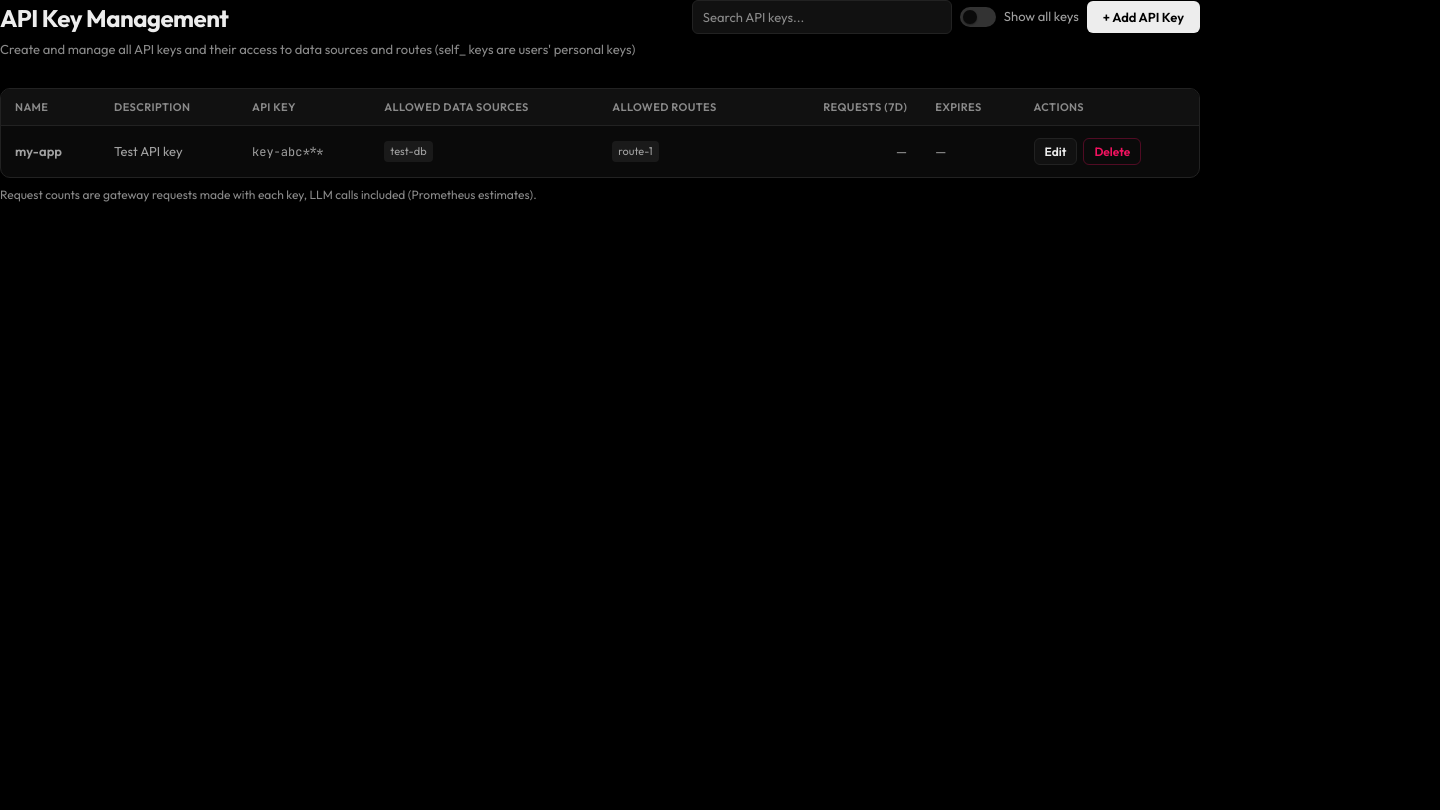
Test case: ApiKeys › opens edit modal on edit button click
Expected: the text "my-app" is shown, [1,126,100,177]
Click the button with aria-label "Edit API key my-app" at (1055, 152), box [1034,138,1077,165]
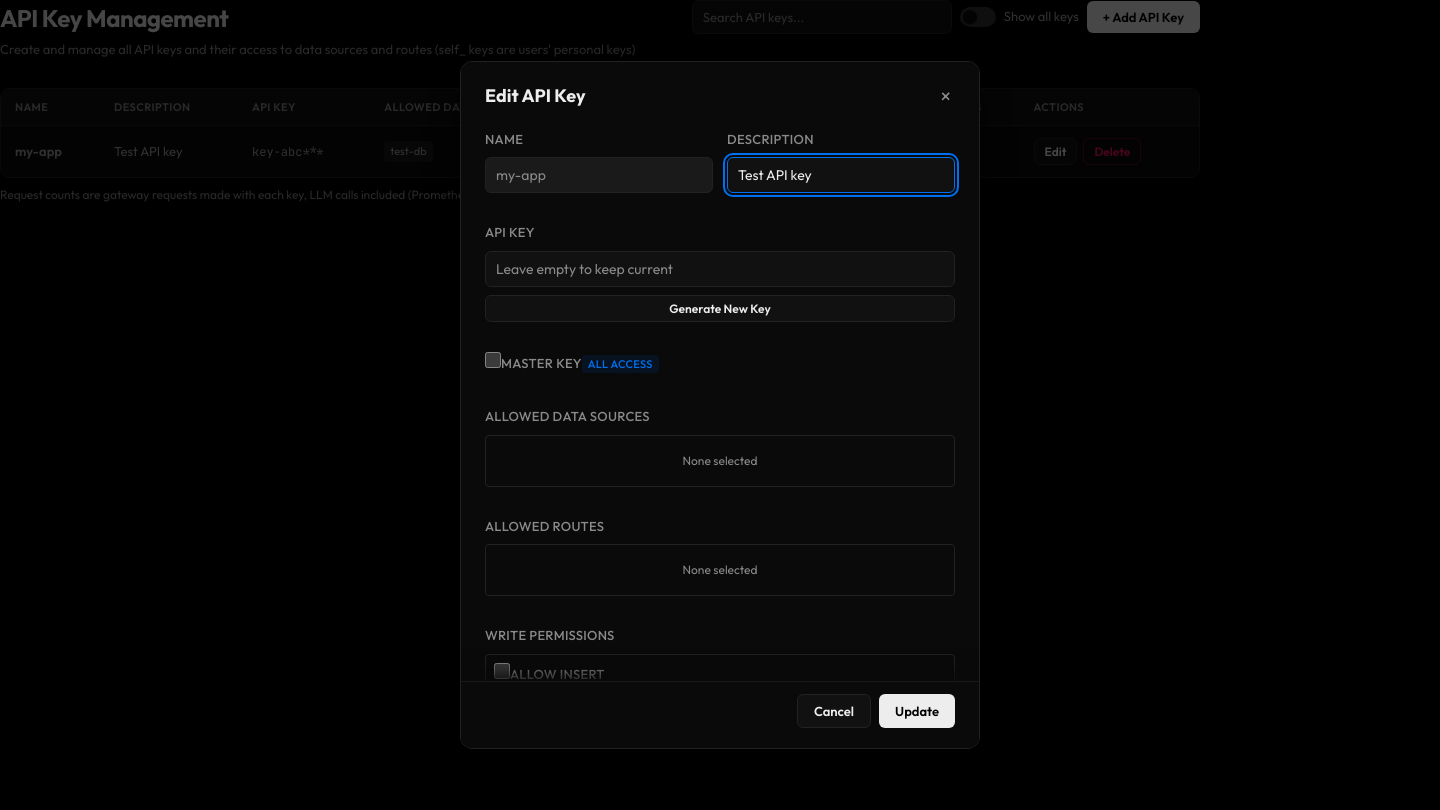
Now the heading "Edit API Key" is shown, box [485,82,586,109]
